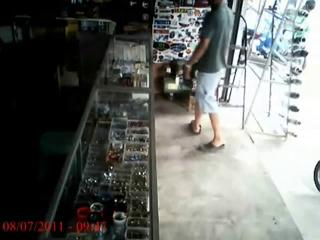Normal: (184, 0, 234, 152)
